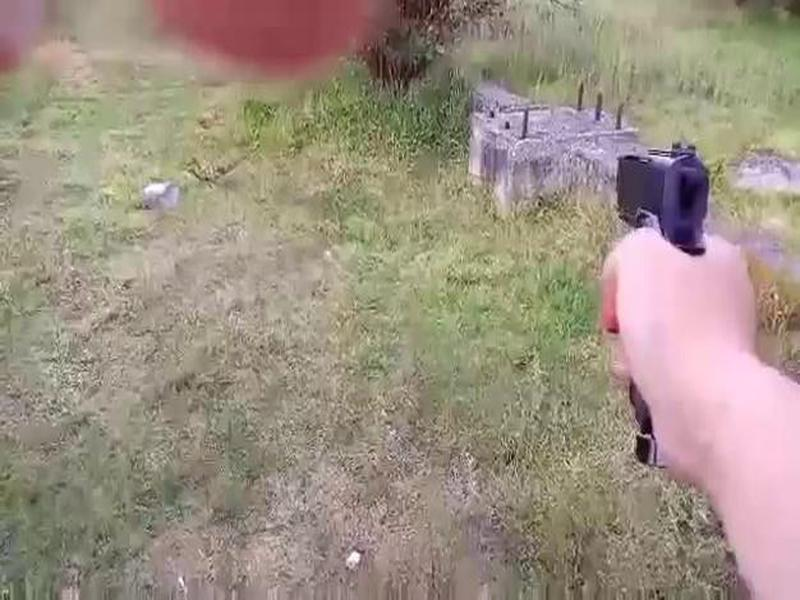Pistola: (598, 127, 726, 317)
